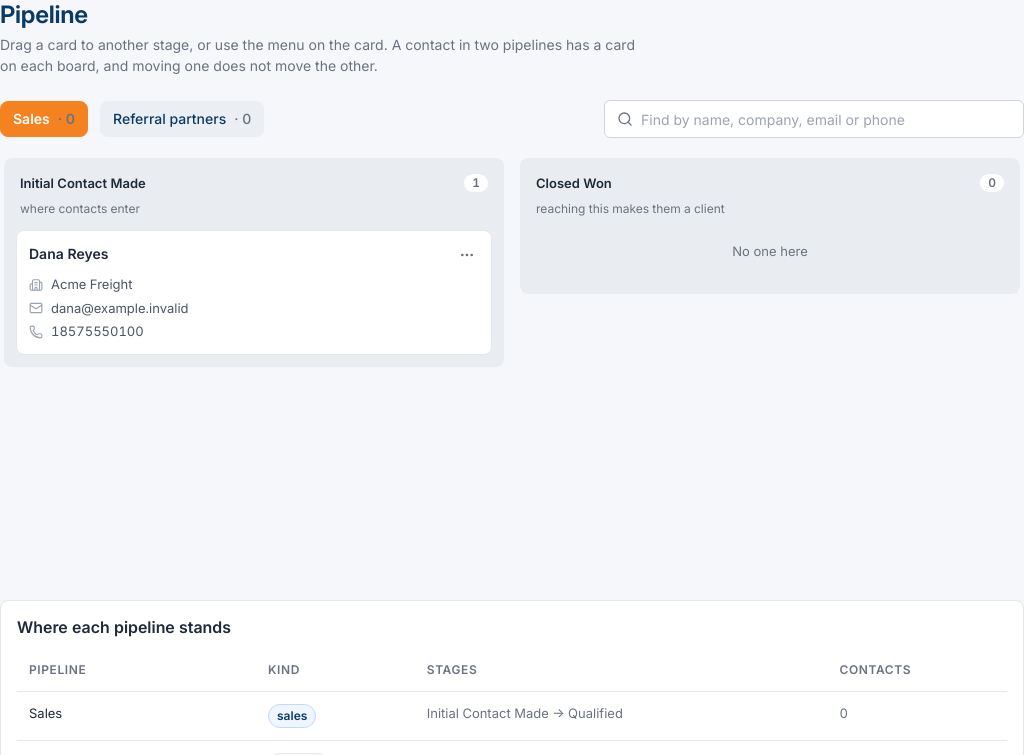
Scenario: Pipeline board › warns before a drop that makes someone a client
Click the button named "Actions for Dana Reyes": click(467, 255) [451,239,483,271]
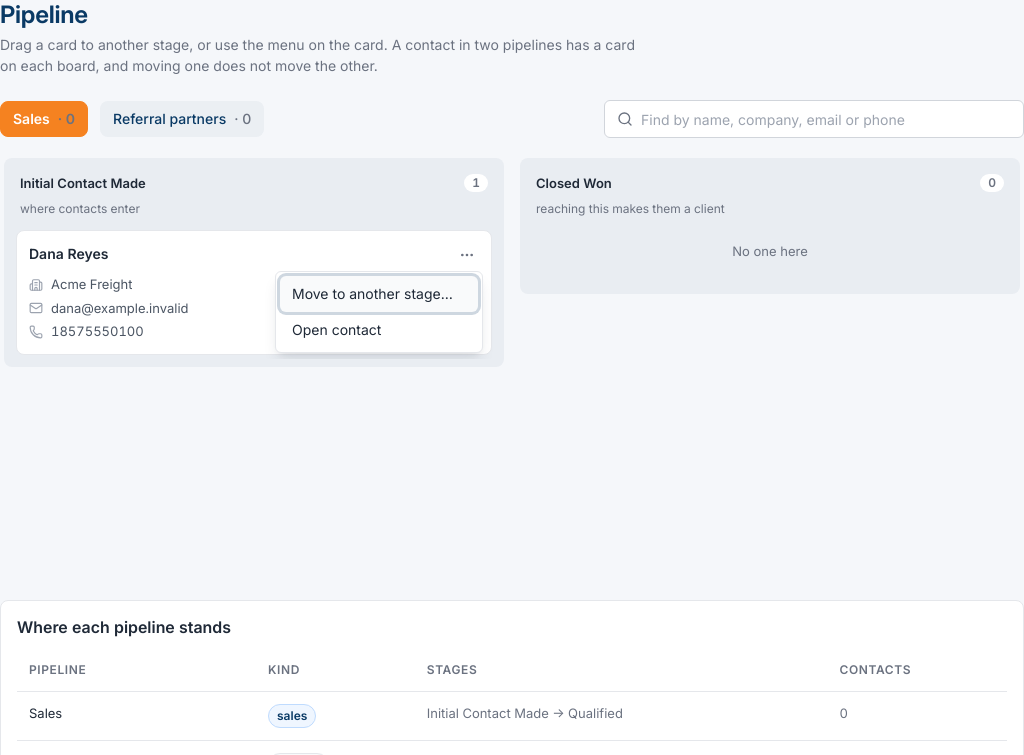
Click the menu item "Move to another stage…": click(379, 294) [280,276,478,312]
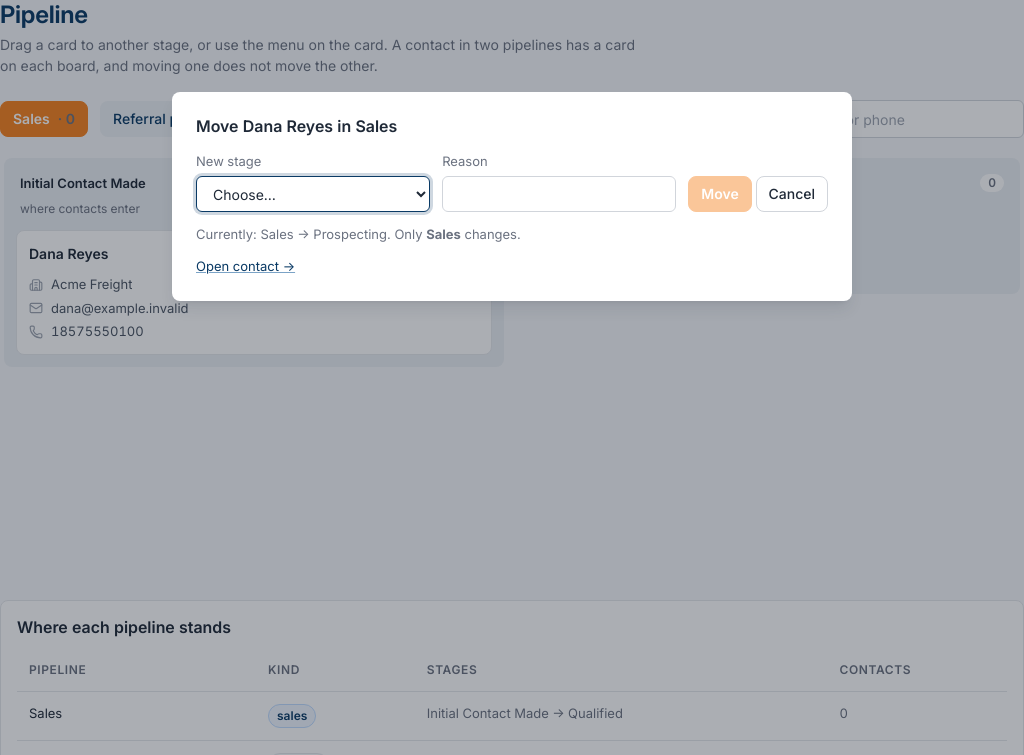
Select "Closed Won" in the dropdown labelled "New stage": (313, 194) [196,176,430,212]
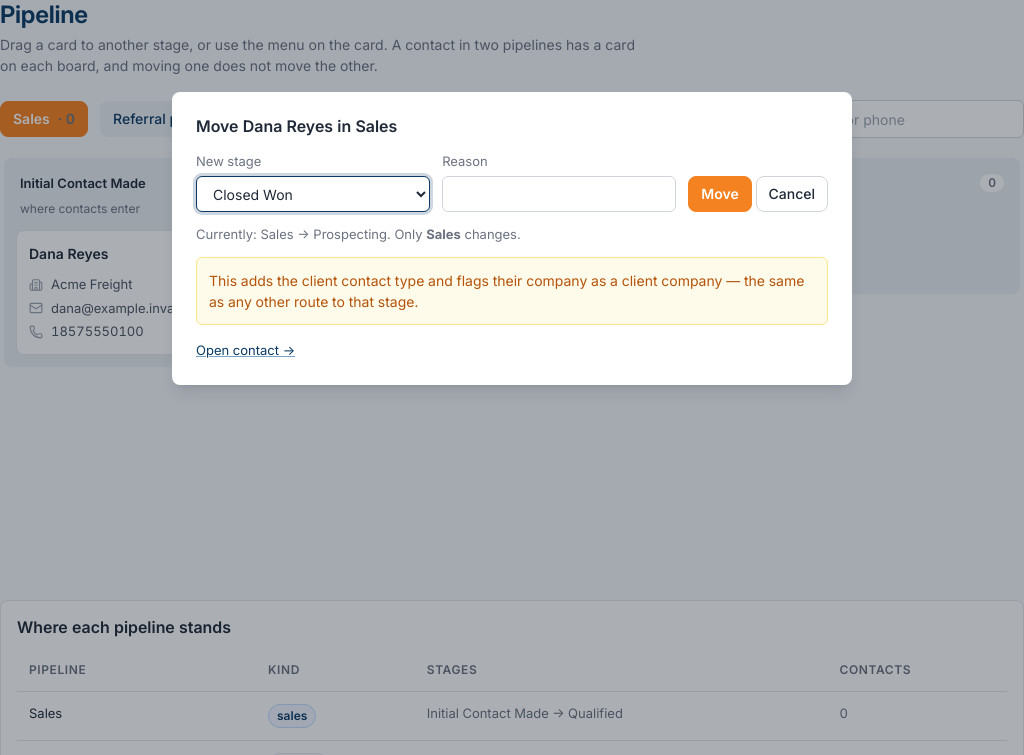
Now the text "adds the client contact type and flags their company" is shown, box [209,272,804,310]
